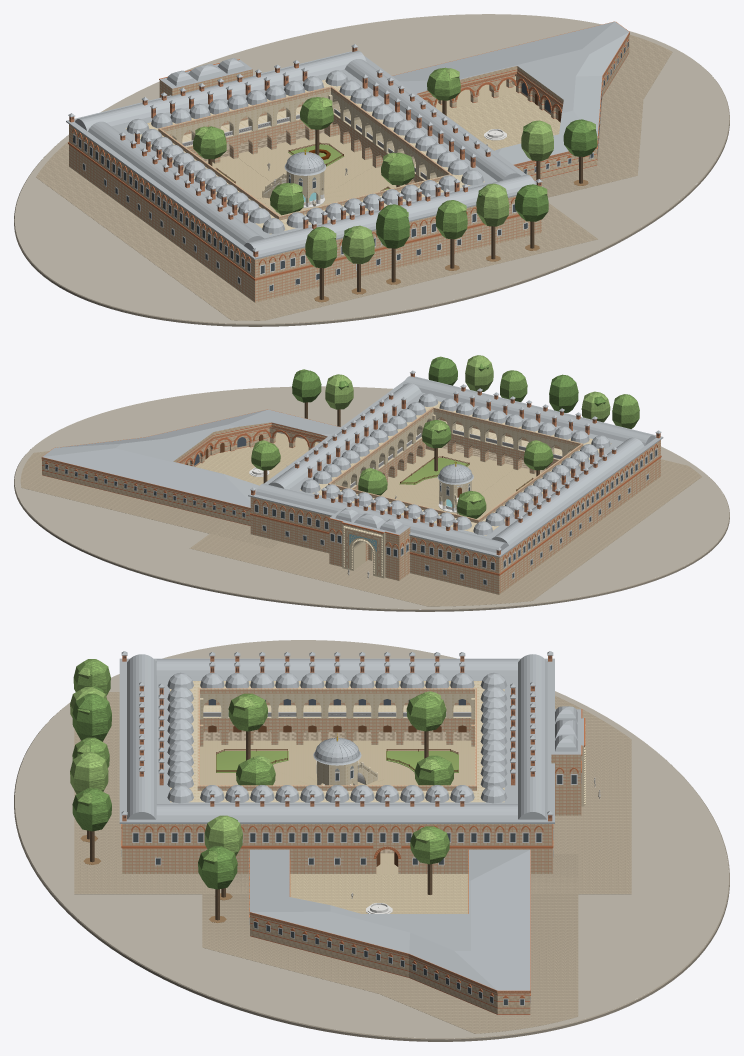
The model's file is koza-han_v18_sunum.glb.
The picture shows the model from 3 angles, top to bottom: view 1: azimuth 30°, elevation 25°; view 2: azimuth 150°, elevation 25°; view 3: azimuth 270°, elevation 25°; orthographic projection. The views are drawn at different scales.
Visible parts, largest first — view 1: Zemin_Kaide, Cati, Cevre_Doseme, Govde_Dis, Ic_Koza, Revak_Kubbeleri, Avlu_Zemin, Avlu_Revak, Avlu_Agac, Cephe, Mescit, Portal (+10 smaller); view 2: Zemin_Kaide, Cati, Cevre_Doseme, Ic_Koza, Govde_Dis, Revak_Kubbeleri, Avlu_Zemin, Avlu_Revak, Cephe, Portal, Avlu_Agac, Mescit (+9 smaller); view 3: Zemin_Kaide, Cevre_Doseme, Cati, Ic_Koza, Govde_Dis, Revak_Kubbeleri, Avlu_Zemin, Avlu_Revak, Avlu_Agac, Cephe, Portal, Mescit (+8 smaller).
Boxes of the visible parts, left/top/right/bottom form: Zemin_Kaide: left=14, top=14, right=729, bottom=326; Cati: left=66, top=44, right=542, bottom=259; Cevre_Doseme: left=36, top=35, right=672, bottom=320; Govde_Dis: left=69, top=69, right=541, bottom=302; Ic_Koza: left=392, top=21, right=629, bottom=180; Revak_Kubbeleri: left=126, top=70, right=483, bottom=233; Avlu_Zemin: left=206, top=76, right=560, bottom=215; Avlu_Revak: left=125, top=79, right=484, bottom=234; Avlu_Agac: left=193, top=67, right=460, bottom=215; Cephe: left=68, top=92, right=528, bottom=291; Mescit: left=262, top=148, right=326, bottom=207; Portal: left=159, top=58, right=252, bottom=97; Zemin_Kaide: left=14, top=386, right=729, bottom=611; Cati: left=248, top=370, right=663, bottom=557; Cevre_Doseme: left=20, top=451, right=701, bottom=606; Ic_Koza: left=41, top=409, right=340, bottom=525; Govde_Dis: left=250, top=392, right=660, bottom=594; Revak_Kubbeleri: left=300, top=393, right=610, bottom=535; Avlu_Zemin: left=195, top=432, right=541, bottom=519; Avlu_Revak: left=300, top=401, right=611, bottom=535; Cephe: left=250, top=444, right=661, bottom=585; Portal: left=328, top=508, right=410, bottom=580; Avlu_Agac: left=251, top=419, right=553, bottom=518; Mescit: left=437, top=462, right=473, bottom=514; Zemin_Kaide: left=14, top=640, right=729, bottom=1041; Cevre_Doseme: left=74, top=692, right=631, bottom=1033; Cati: left=119, top=651, right=554, bottom=823; Ic_Koza: left=249, top=849, right=530, bottom=1014; Govde_Dis: left=122, top=675, right=552, bottom=873; Revak_Kubbeleri: left=167, top=672, right=507, bottom=803; Avlu_Zemin: left=200, top=740, right=474, bottom=913; Avlu_Revak: left=170, top=681, right=504, bottom=802; Avlu_Agac: left=228, top=691, right=454, bottom=894; Cephe: left=121, top=760, right=581, bottom=865; Portal: left=551, top=706, right=585, bottom=815; Mescit: left=313, top=733, right=377, bottom=785.
Size of the model in its own units: 158 by 16.92 by 120.
46 materials, 20 textured.
